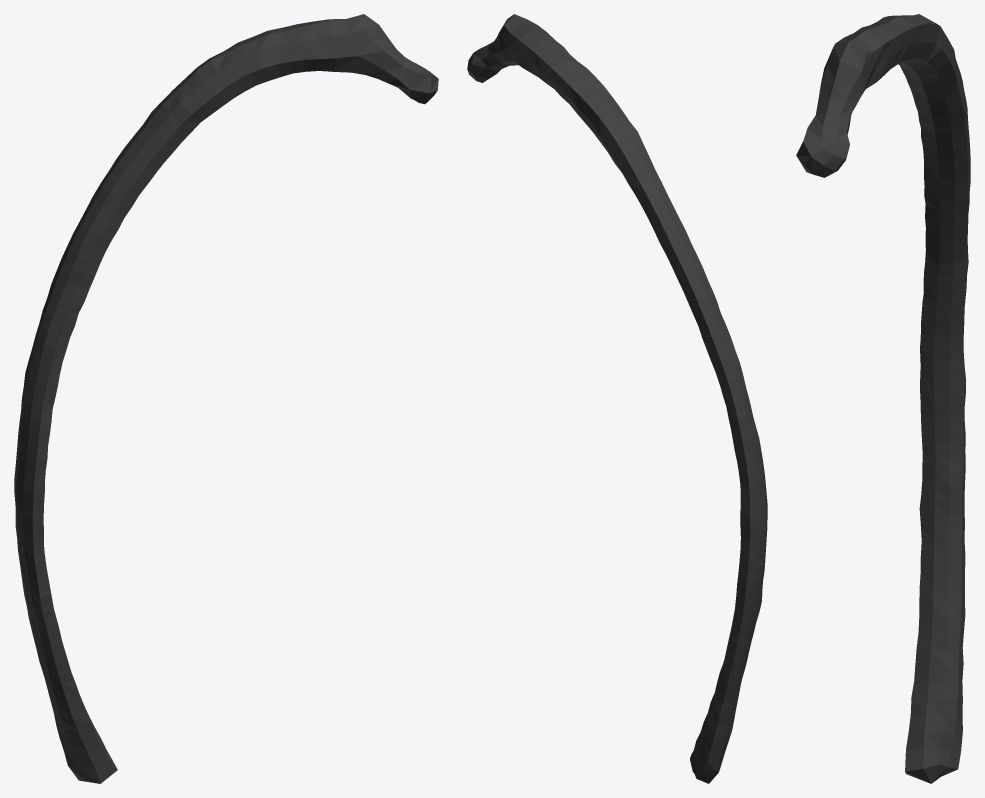
The model's file is Rib_6_R.glb.
3 views of the same model, side by side, from view 1: azimuth 30°, elevation 25°; view 2: azimuth 150°, elevation 25°; view 3: azimuth 270°, elevation 25° (orthographic). The views are drawn at different scales.
Parts seen in each view (by area): view 1: Rib_6_R; view 2: Rib_6_R; view 3: Rib_6_R.
Part boxes in pixels (x1,y1,x2,y2): Rib_6_R: (14,14,438,783); Rib_6_R: (467,14,767,783); Rib_6_R: (796,14,970,783).
Bounding box in the file's own units: 4.27 × 8.23 × 1.48.
Materials: 1 (1 with a texture image).
